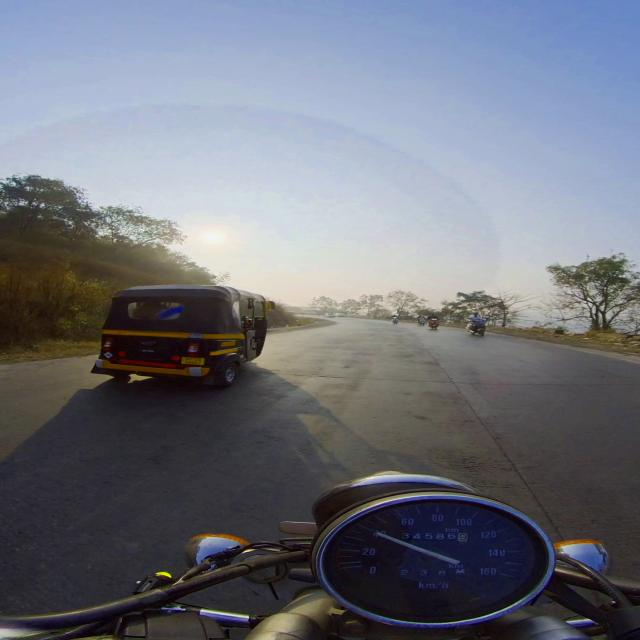car: (335, 313, 346, 317), (326, 313, 335, 317)
motorcycle: (0, 472, 639, 639), (467, 321, 485, 335), (429, 320, 439, 329), (418, 318, 426, 326), (392, 318, 399, 324)
